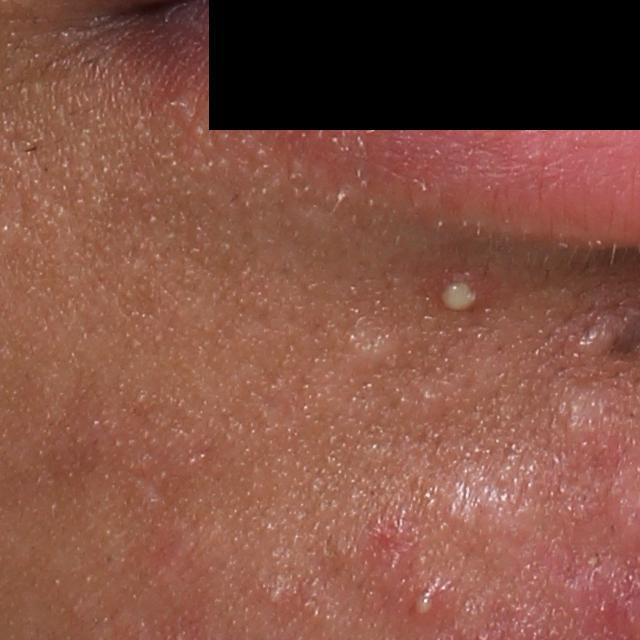hypertrophic_scar: (415, 459, 552, 576), (337, 318, 404, 376), (546, 386, 607, 449), (575, 320, 621, 359)
pustule: (435, 273, 487, 313), (407, 584, 441, 620)
